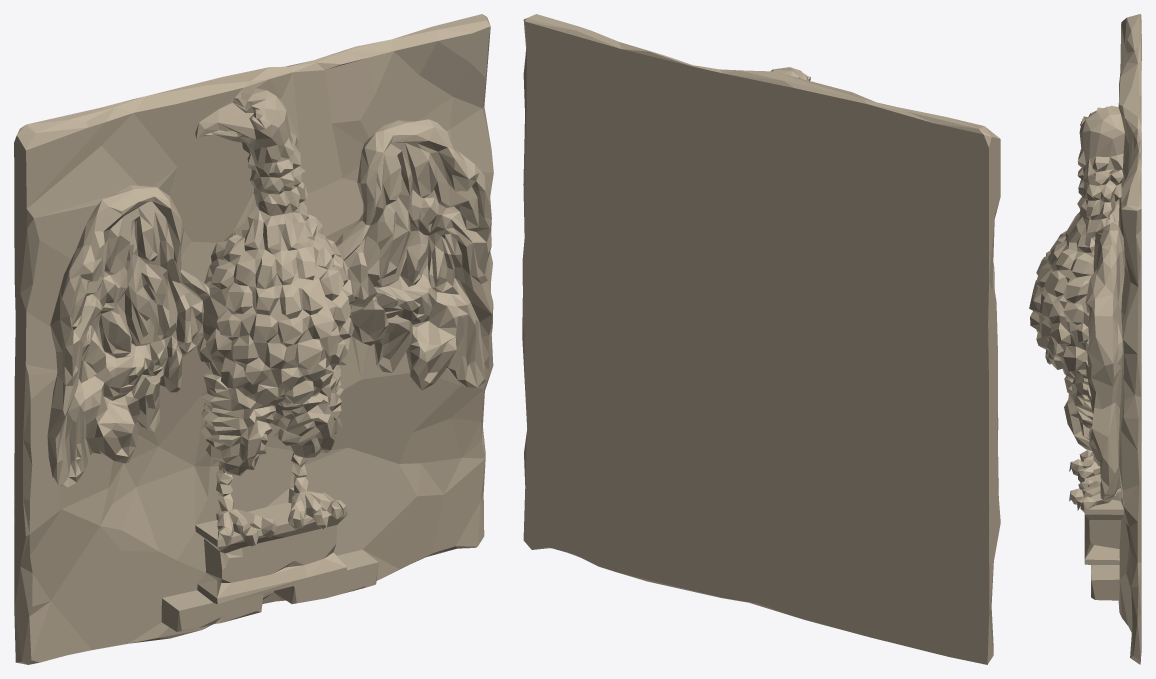
File: Eagle_01.glb
3 renders of one model, left to right at view 1: azimuth 30°, elevation 25°; view 2: azimuth 150°, elevation 25°; view 3: azimuth 270°, elevation 25°, orthographic. The views are drawn at different scales.
Parts seen in each view (by area): view 1: Eagle_01; view 2: Eagle_01; view 3: Eagle_01.
Part boxes in pixels (x1=…): Eagle_01: x1=14, y1=14, x2=493, y2=664; Eagle_01: x1=522, y1=14, x2=1000, y2=664; Eagle_01: x1=1029, y1=14, x2=1141, y2=664.
Size of the model in its own units: 2.74 by 2.99 by 0.6569.
